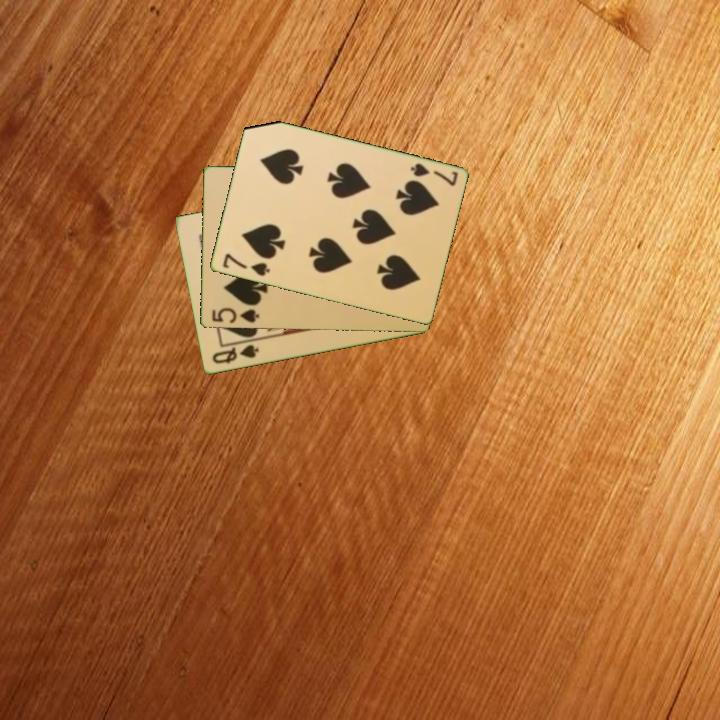5s: (208, 305, 262, 327)
7s: (407, 160, 461, 189), (219, 250, 272, 279)
Qs: (208, 341, 262, 367)
